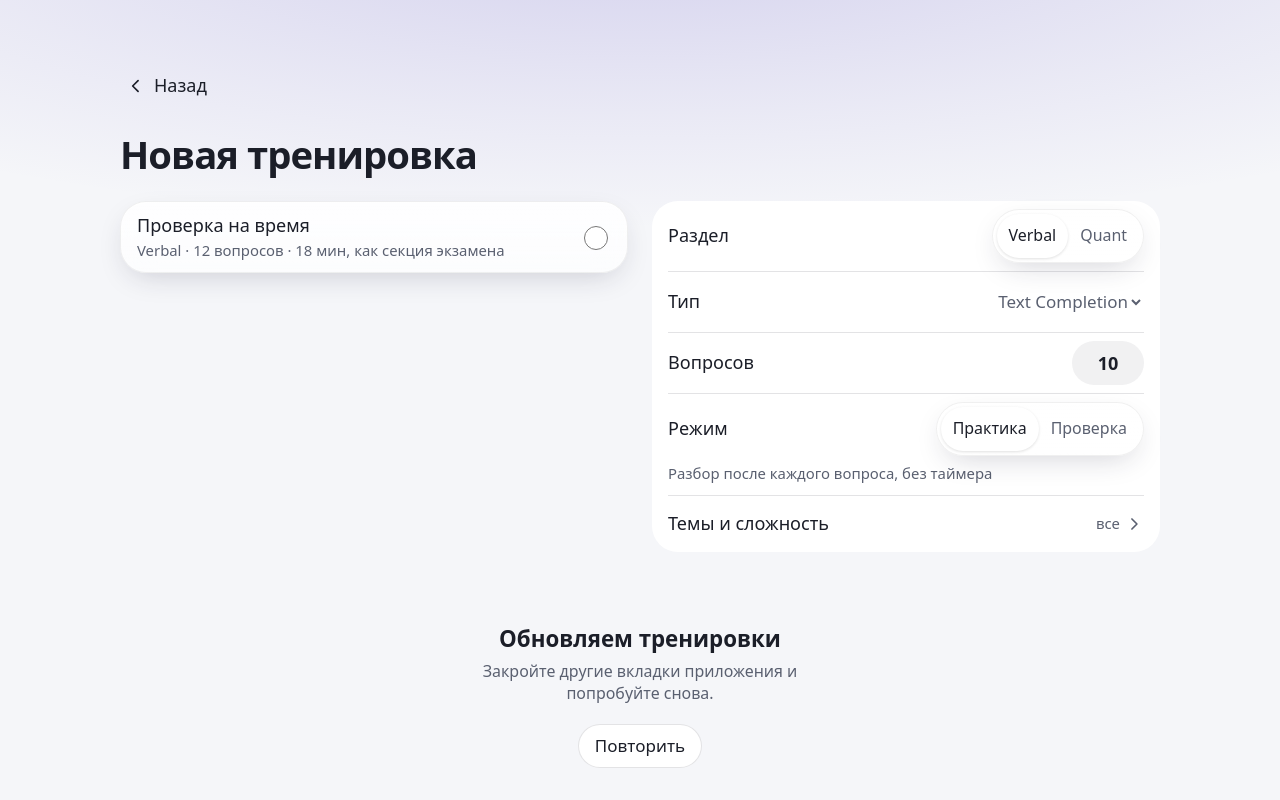
Test: блокировка обновления IndexedDB объясняет ожидание и позволяет повторить вход в тренировки
Check: the text "Закройте другие вкладки приложения и попробуйте снова." is shown, box [480,662,800,704]
Click the button "Повторить": (640, 746) [578,724,702,768]
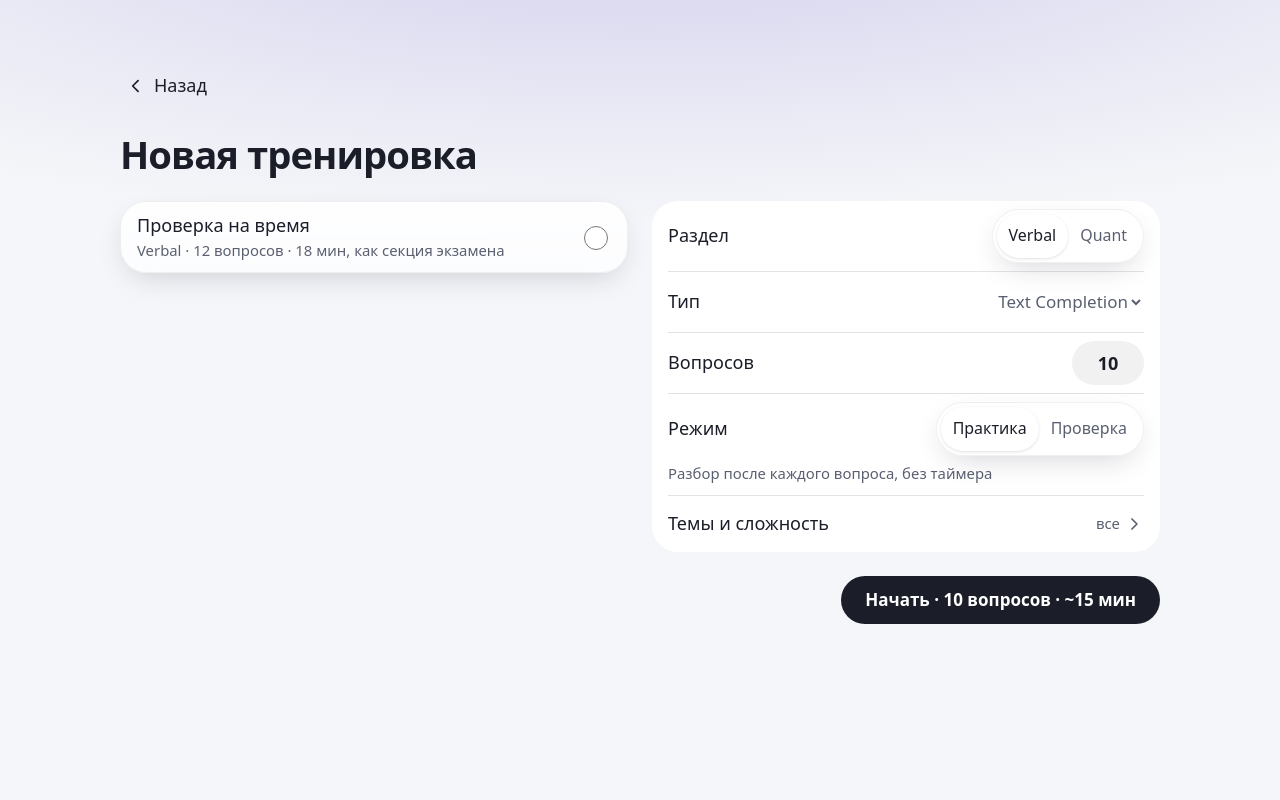
Check: the button "Начать · 10 вопросов · ~15 мин" is enabled, box [841,576,1160,624]
